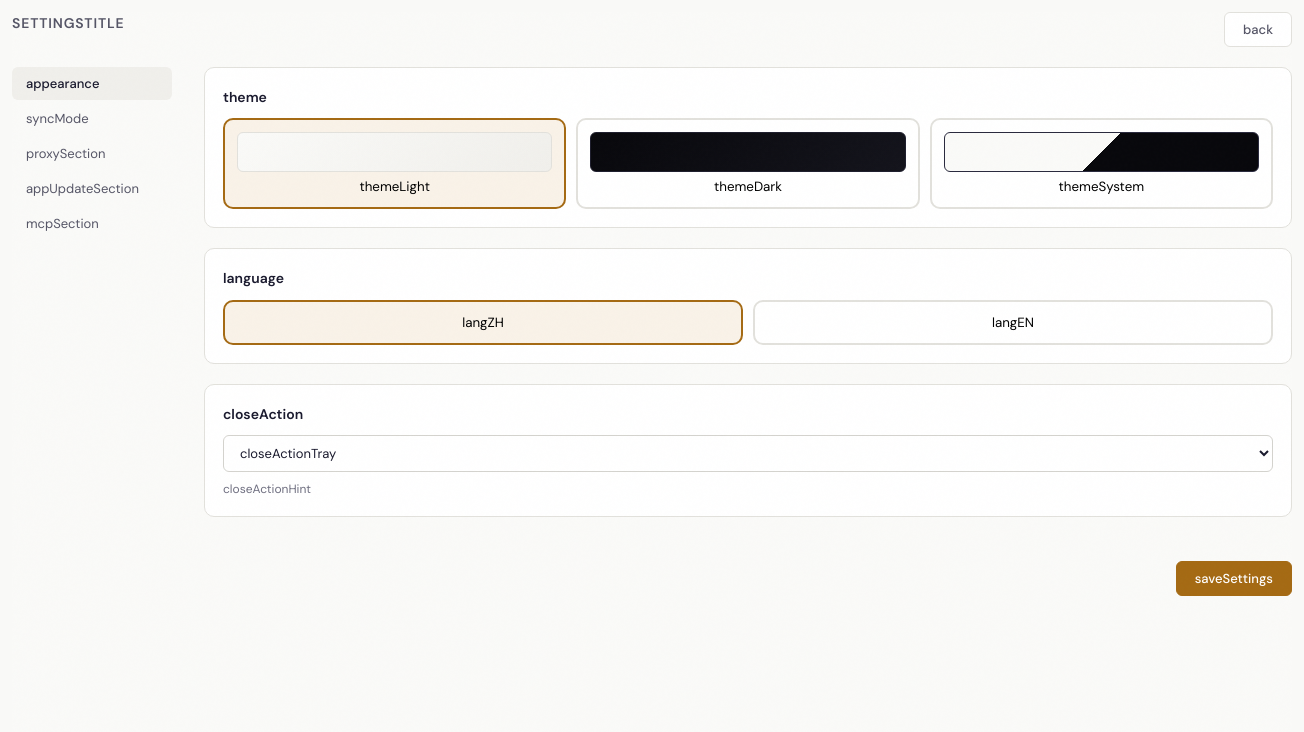
Test: SettingsPanel › shows a proxy-friendly error when the update check fails
The width and height of the screenshot is (1304, 732).
What coordinates should you click on to do the following:
click the button "appUpdateSection"
I would click on:
 (92, 188)
Its box is [12,172,172,205].
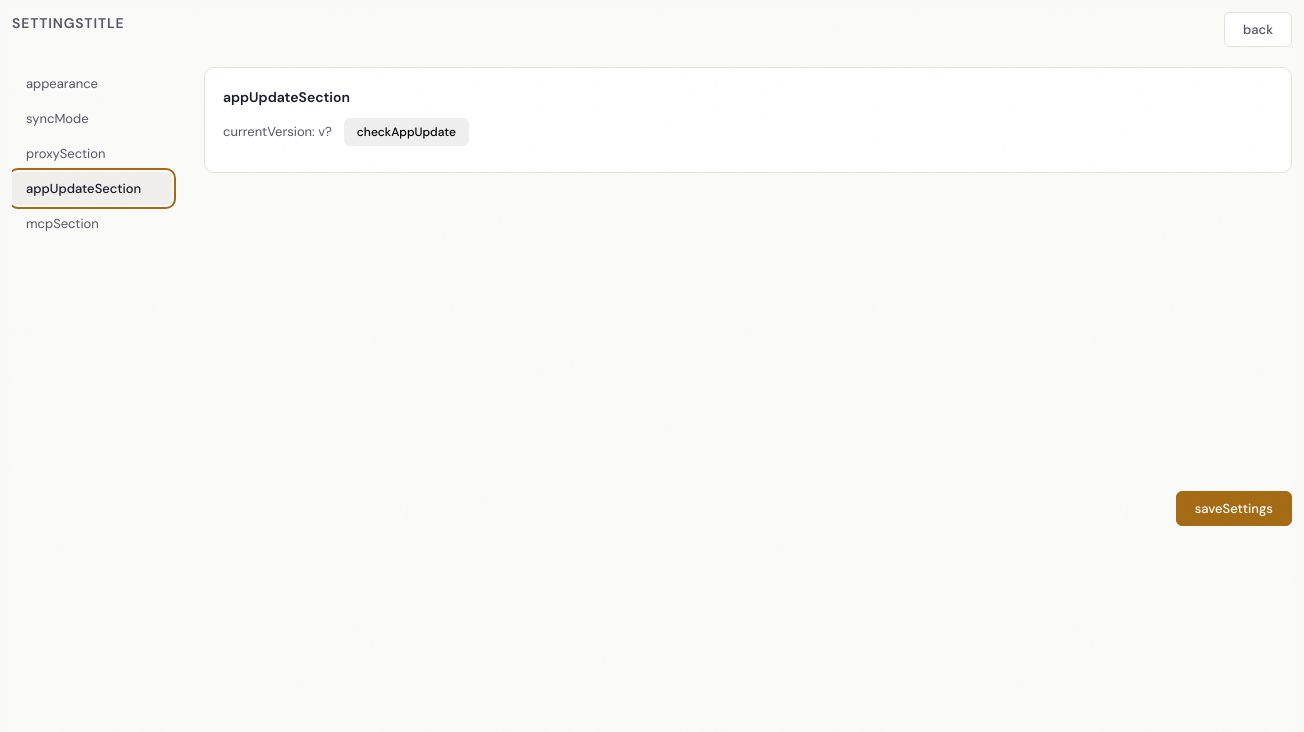
What coordinates should you click on to do the following:
click the button "checkAppUpdate"
I would click on:
 (406, 132)
Its box is [344,118,469,146].
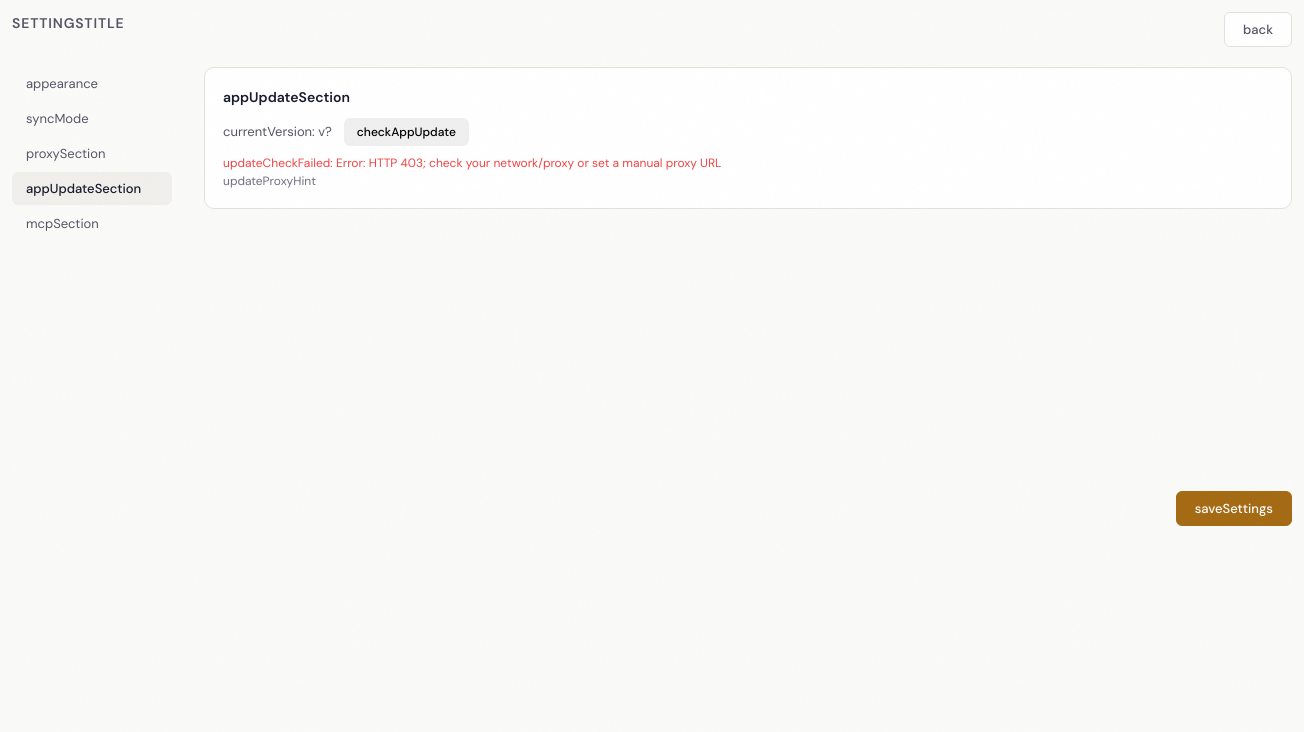
Expected: the text "updateCheckFailed:" shows "updateCheckFailed: Error: HTTP 403; check your network/proxy or set a manual proxy URL", [223,155,721,171]
